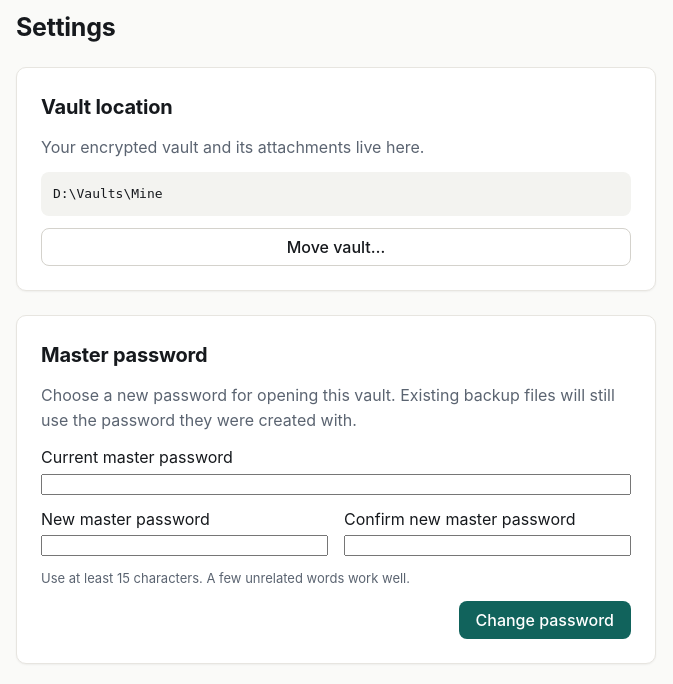
Test: SettingsPage › explains when the current password is incorrect and clears that field
Type "wrong-current-password" into the password field labelled "Current master password" at (336, 484), box 41,474 -> 631,495
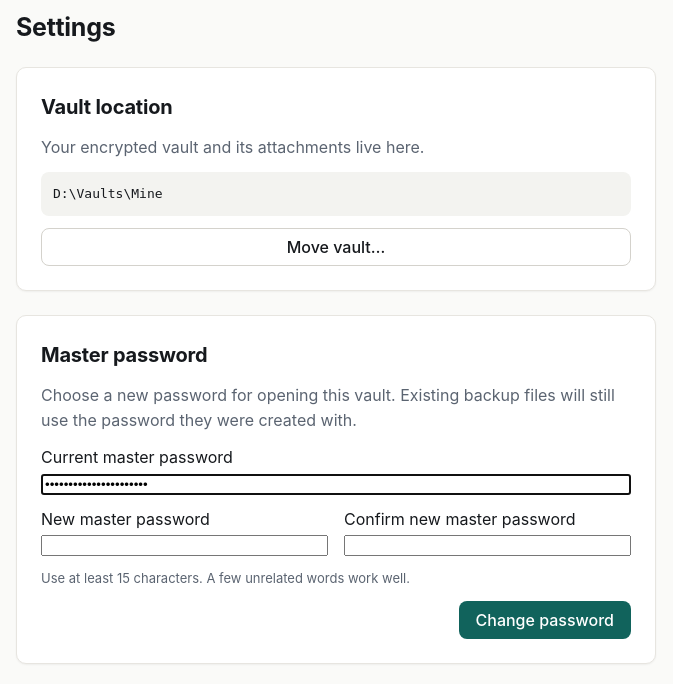
Type "replacement-master-password" into the password field labelled "New master password" at (184, 546), box 41,535 -> 328,556
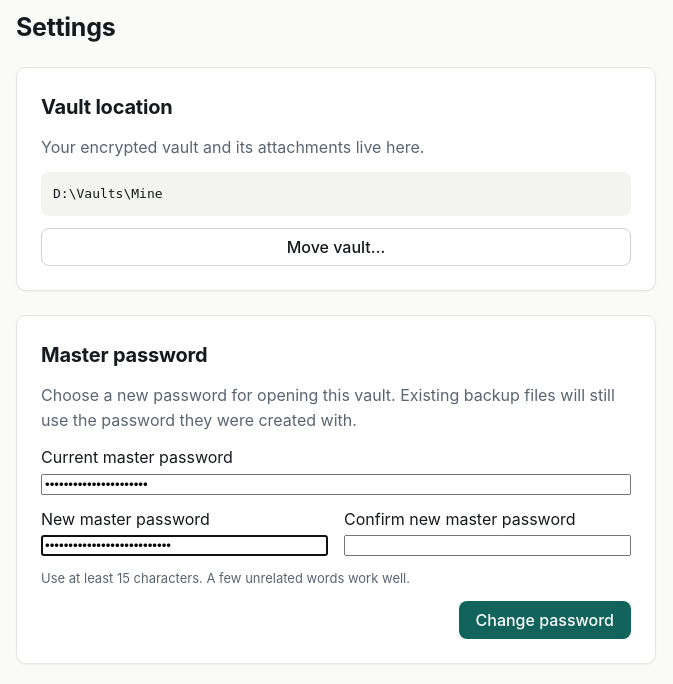
Type "replacement-master-password" into the password field labelled "Confirm new master password" at (488, 546), box 344,535 -> 631,556
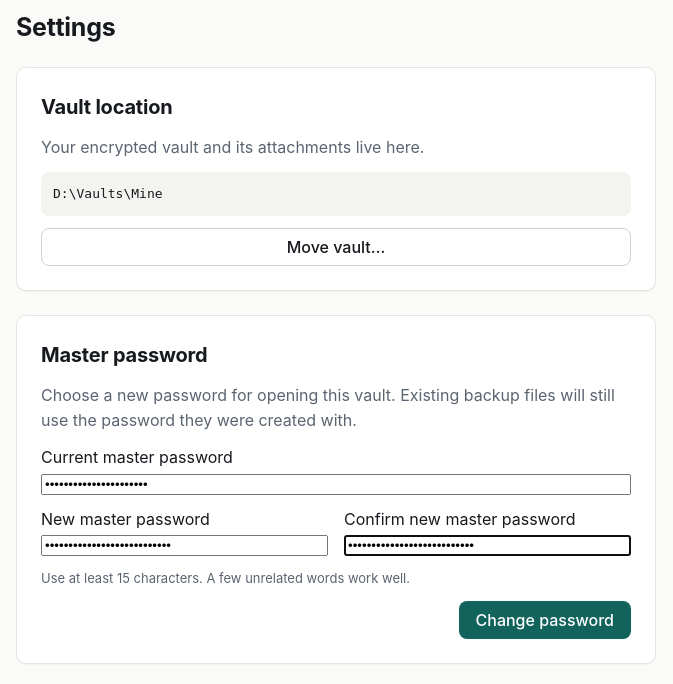
Click the button "Change password" at (545, 620), box 458,600 -> 631,638
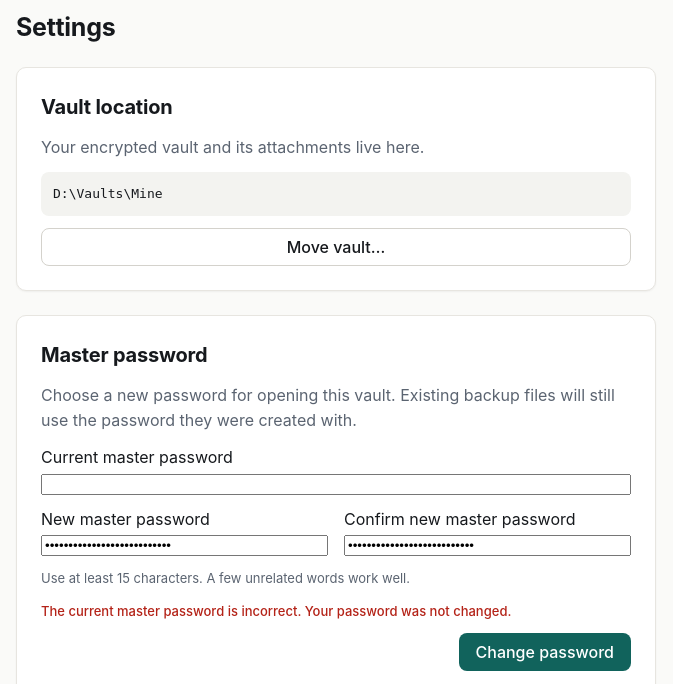
Expected: the message shows "current master password is incorrect", 41,602 -> 511,618
Expected: the password field labelled "Current master password" is empty, 41,474 -> 631,495
